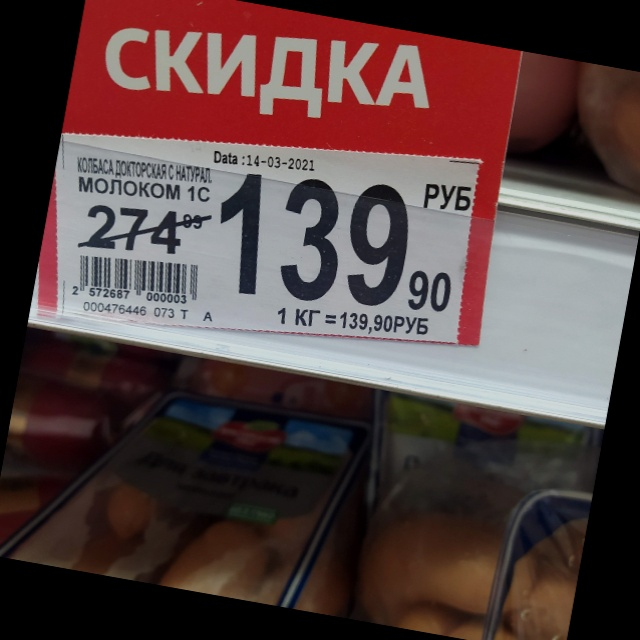barcode: (64, 249, 204, 308)
name: (71, 155, 214, 203)
price: (220, 171, 456, 314)
price_tag: (60, 134, 483, 346)
